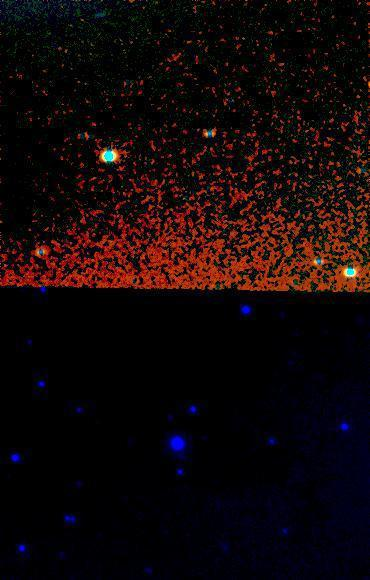star: (112, 179, 142, 209)
